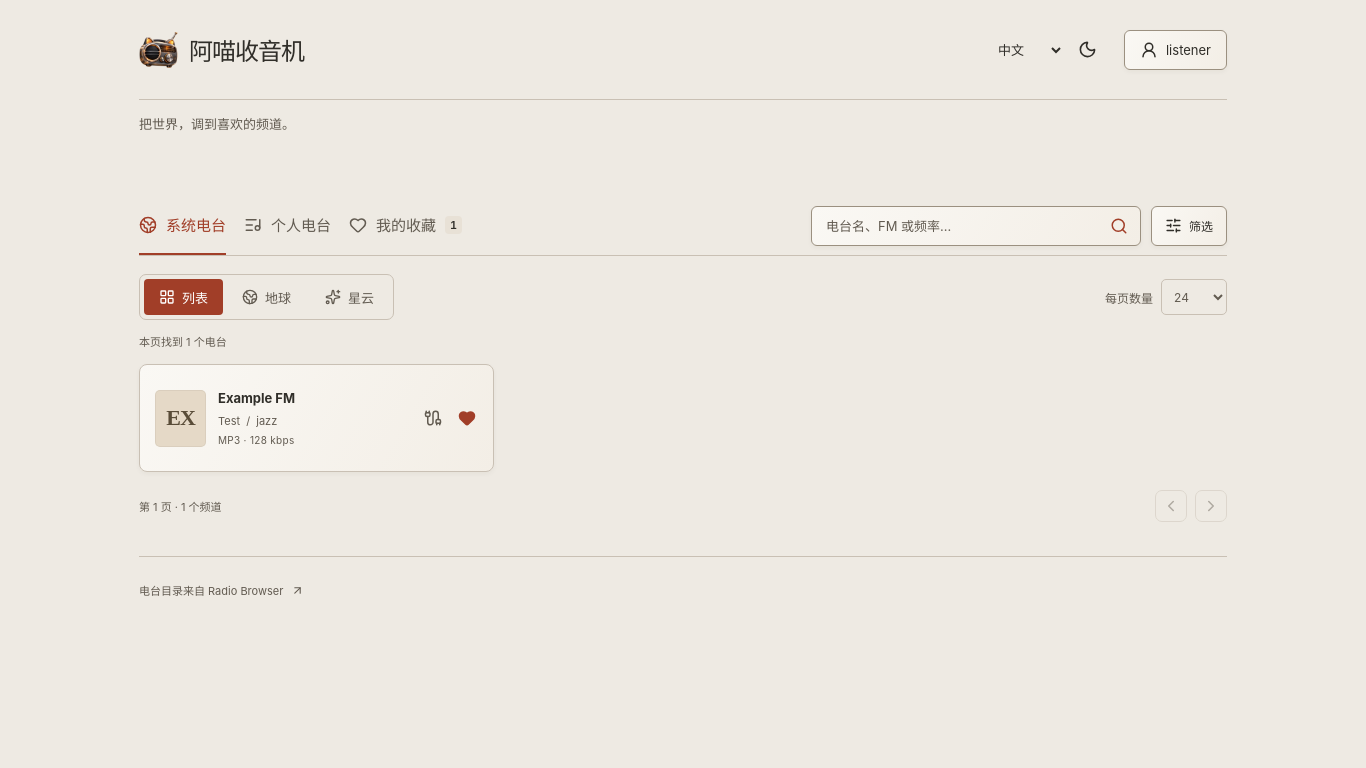
Test: replays the intended DELETE after the same account signs in again
Click the button named "取消收藏 Example FM": (467, 418) top-left (449, 396), bottom-right (485, 440)
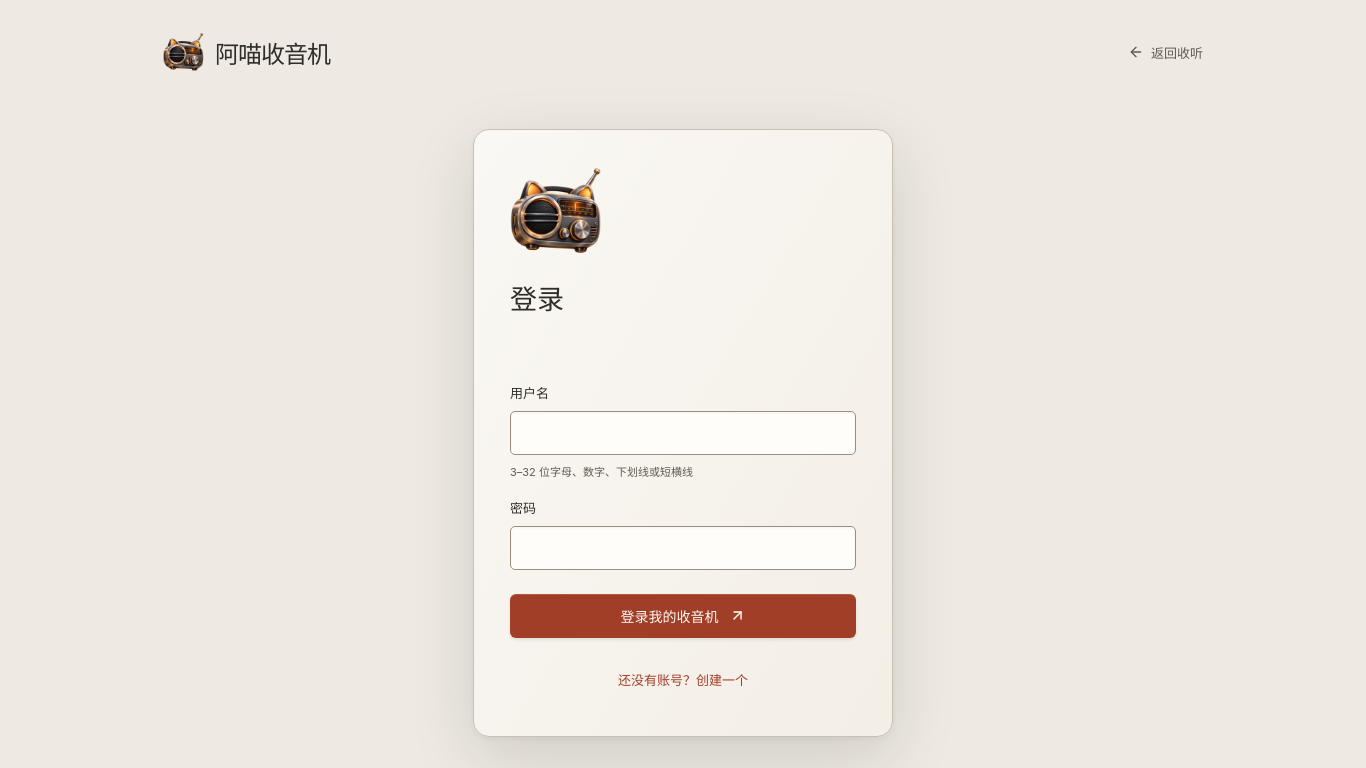
Expected: the heading "登录" is shown, top-left (510, 283), bottom-right (564, 316)
In the field labelled "用户名": (683, 433) top-left (510, 411), bottom-right (856, 455), type "listener"
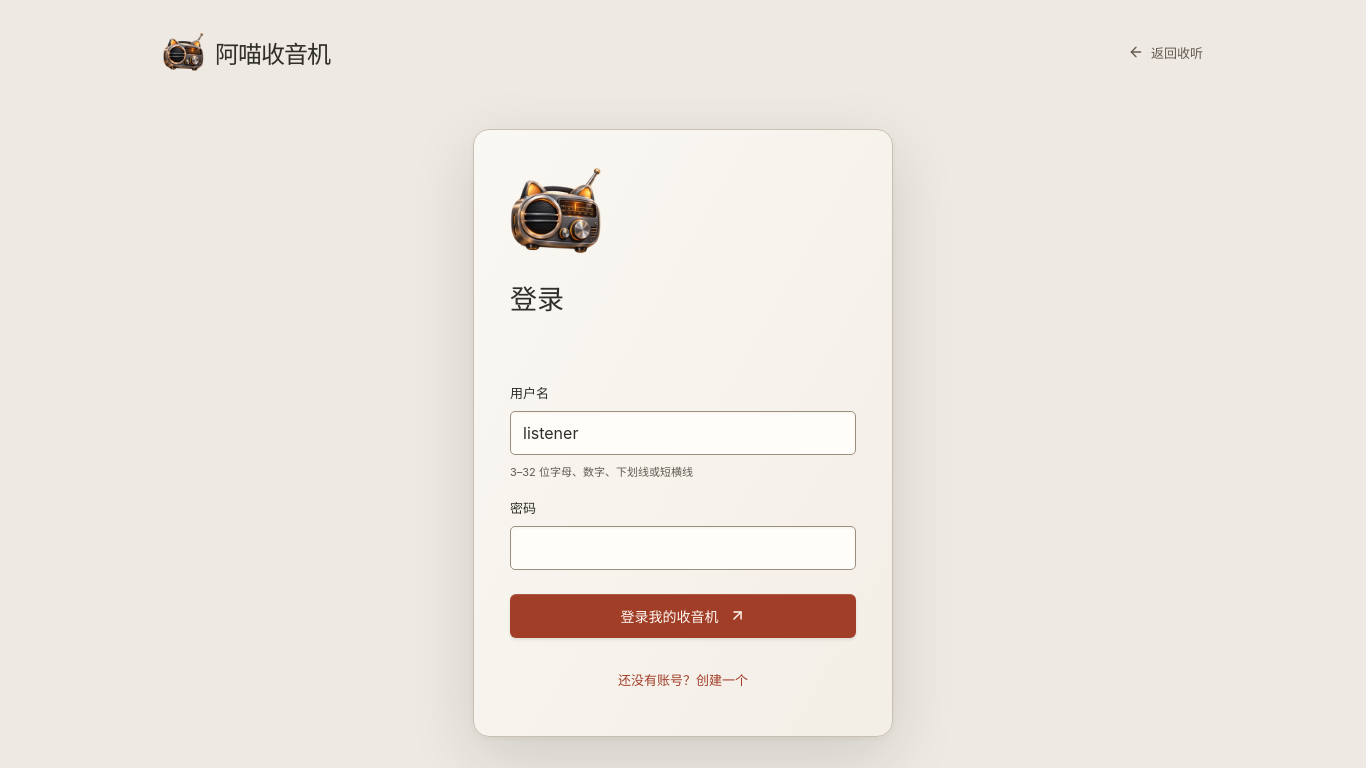
In the password field labelled "密码": (683, 548) top-left (510, 526), bottom-right (856, 570), type "safe-test-password"
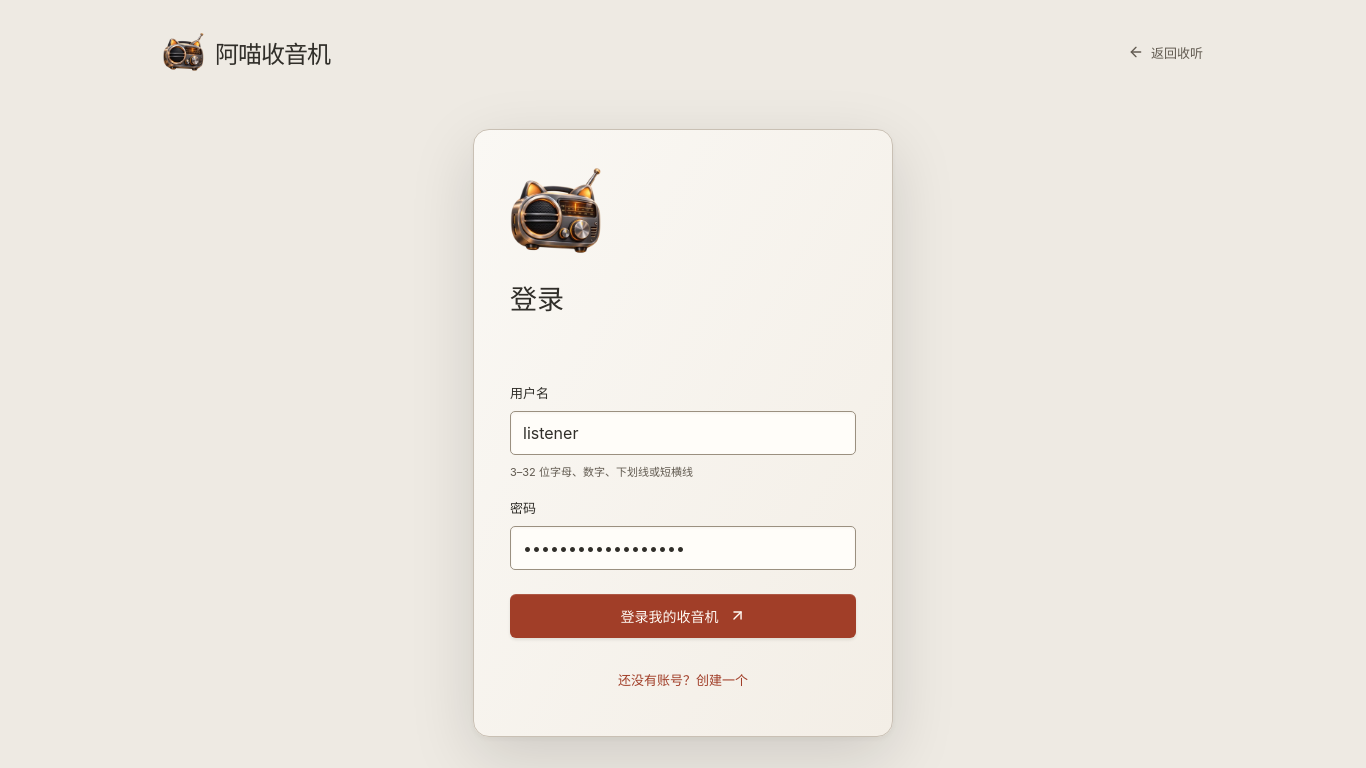
Click the button "登录我的收音机": (683, 616) top-left (510, 594), bottom-right (856, 638)
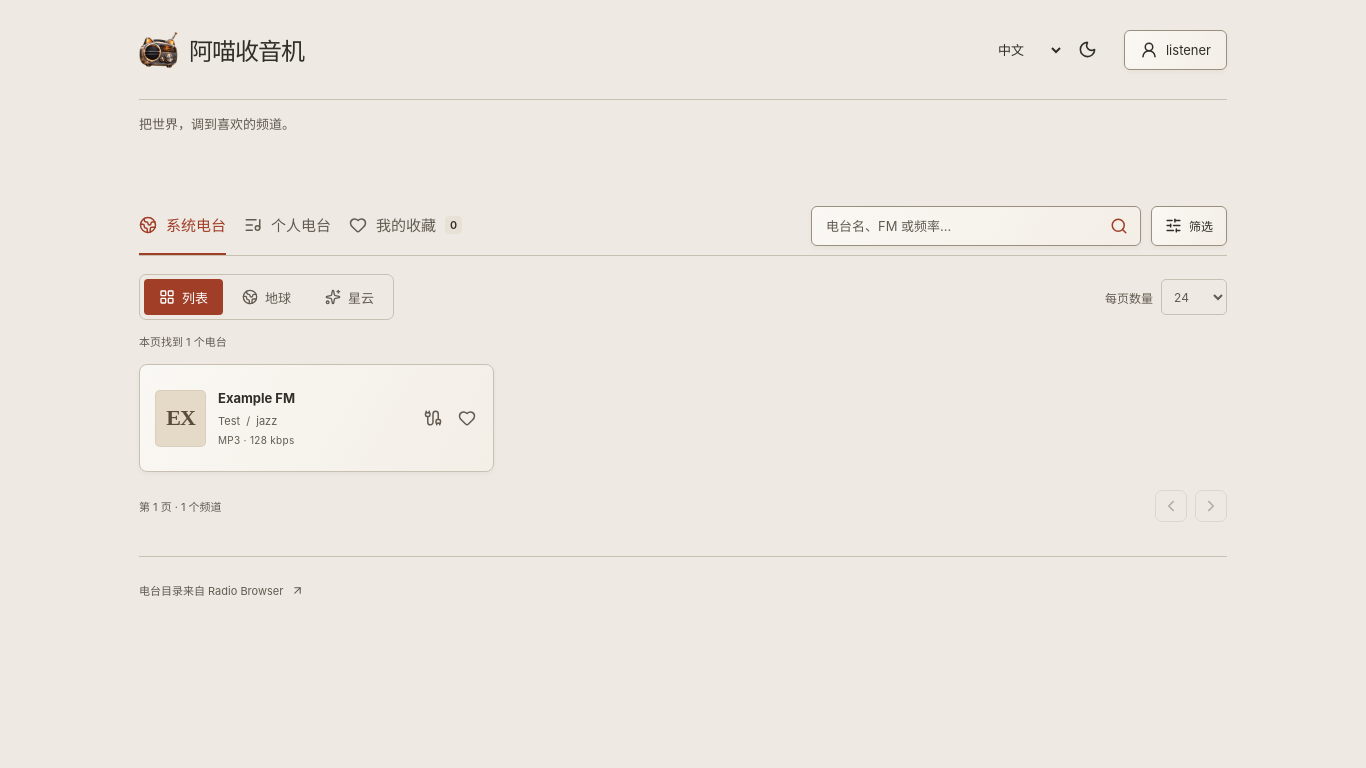
Expected: the element named "收听首页" is shown, top-left (139, 100), bottom-right (1227, 522)
